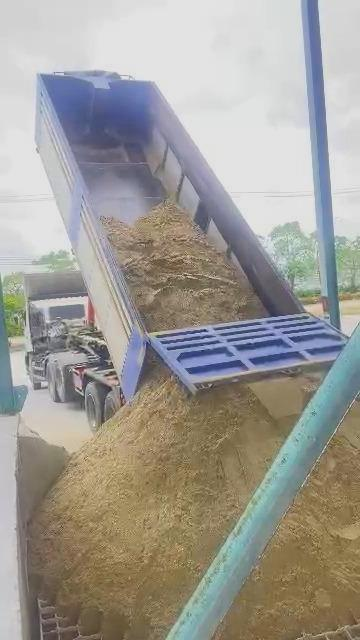sand: (30, 362, 286, 639), (218, 438, 360, 639), (105, 203, 265, 329), (20, 427, 66, 505), (251, 372, 323, 421), (341, 398, 360, 449)
